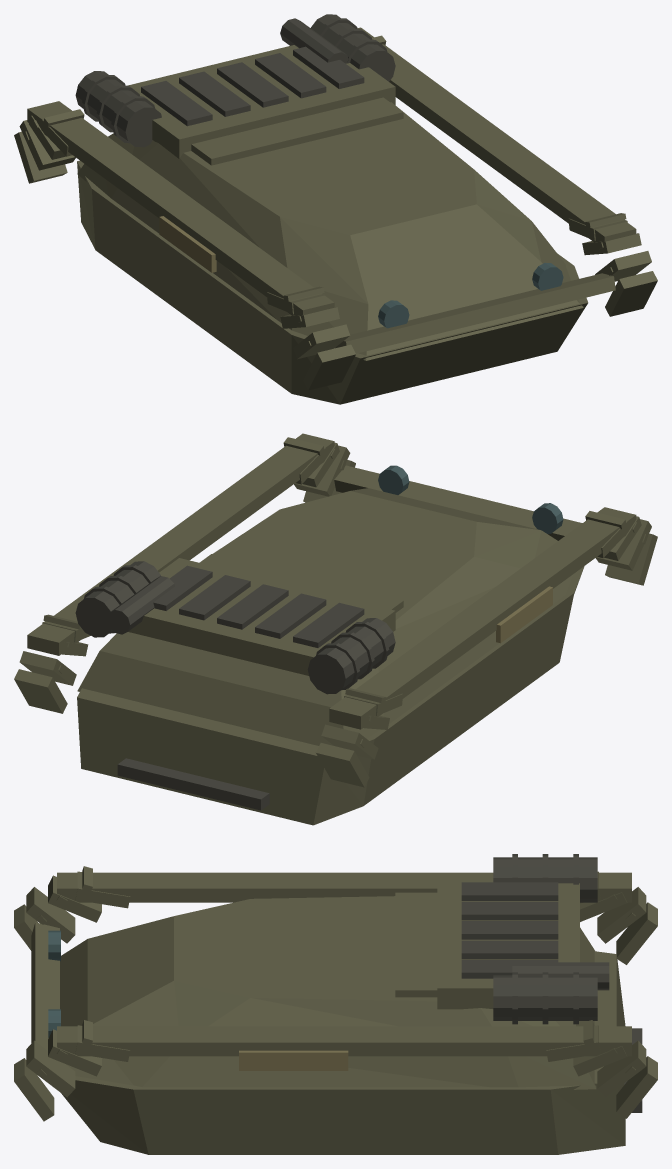
Rendered from Bastion_Hull.obj.
The picture shows the model from 3 angles, top to bottom: view 1: azimuth 30°, elevation 25°; view 2: azimuth 150°, elevation 25°; view 3: azimuth 270°, elevation 25°; orthographic projection. The views are drawn at different scales.
Parts seen in each view (by area): view 1: Bastion_Hull; view 2: Bastion_Hull; view 3: Bastion_Hull.
Boxes of the visible parts, x1,y1,x2,y2 form: Bastion_Hull: (14, 14, 657, 404); Bastion_Hull: (14, 433, 657, 825); Bastion_Hull: (14, 854, 657, 1154).
Bounding box in the file's own units: 3.23 × 1.49 × 5.06.
1 material, 1 textured.
